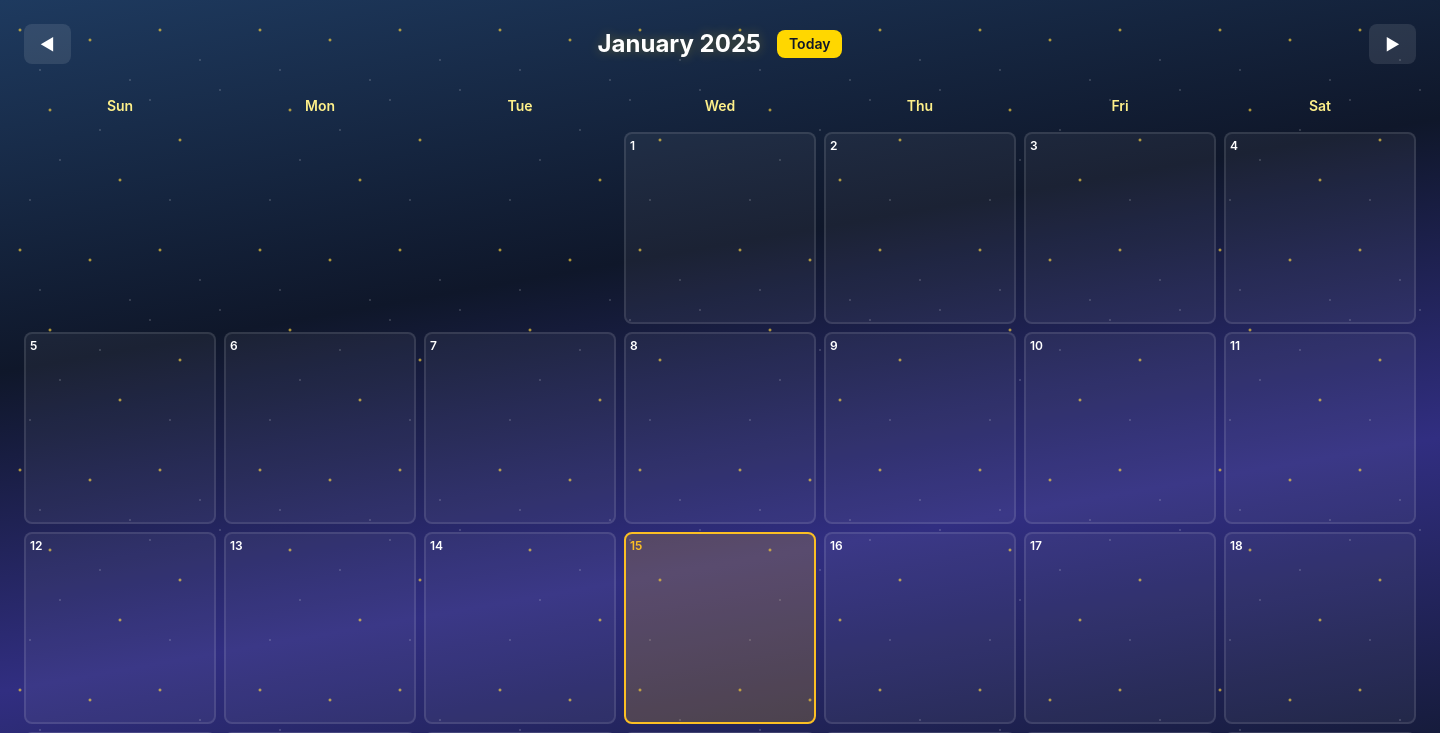
Test: CalendarView › Navigation › navigates to next month
Click the button "▶": (1393, 44) 1369,24 -> 1416,64
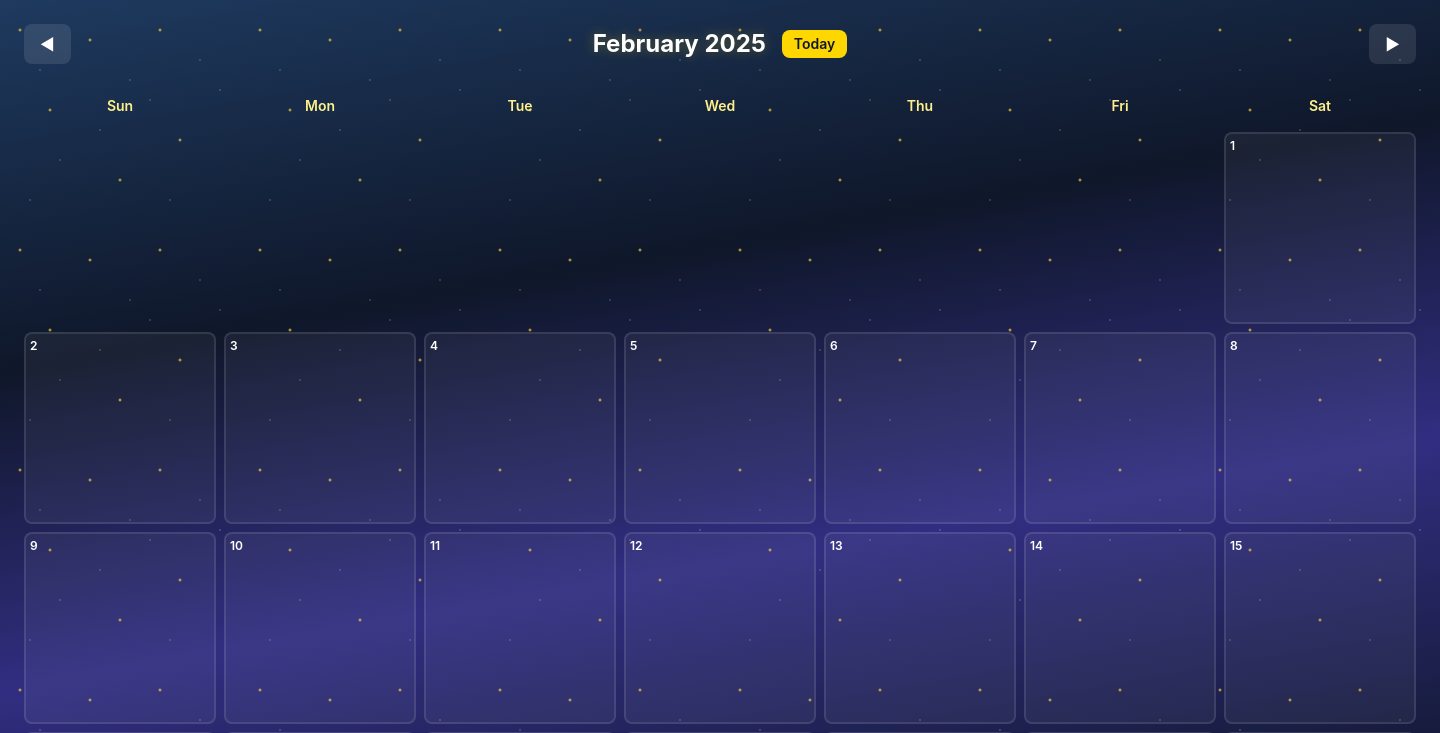
Now the heading "February 2025" is shown, box 593,28 -> 766,60
